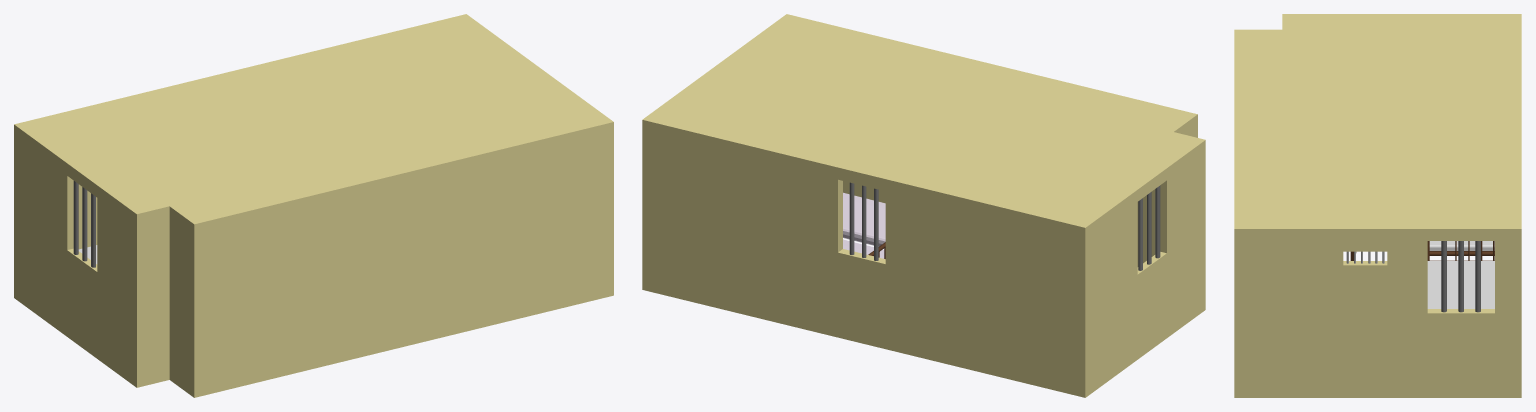
Rendered from cellule1.glb.
3 views of the same model, side by side, from view 1: azimuth 30°, elevation 25°; view 2: azimuth 150°, elevation 25°; view 3: azimuth 270°, elevation 25° (orthographic). The views are drawn at different scales.
Visible parts, largest first — view 1: Cube.008; view 2: Cube.008, Cube; view 3: Cube.008, Plane.001, Plane, Cylinder.006, Cylinder.007, Cylinder.008.
Boxes of the visible parts, <box> form: Cube.008: <box>14,14,613,397</box>; Cube.008: <box>642,14,1205,397</box>; Cube: <box>843,192,885,246</box>; Cube.008: <box>1234,14,1521,397</box>; Plane.001: <box>1427,241,1494,308</box>; Plane: <box>1429,241,1494,255</box>; Cylinder.006: <box>1458,241,1463,312</box>; Cylinder.007: <box>1475,241,1480,312</box>; Cylinder.008: <box>1441,241,1446,312</box>.
Bounding box in the file's own units: 15.9 × 5.85 × 8.98.
